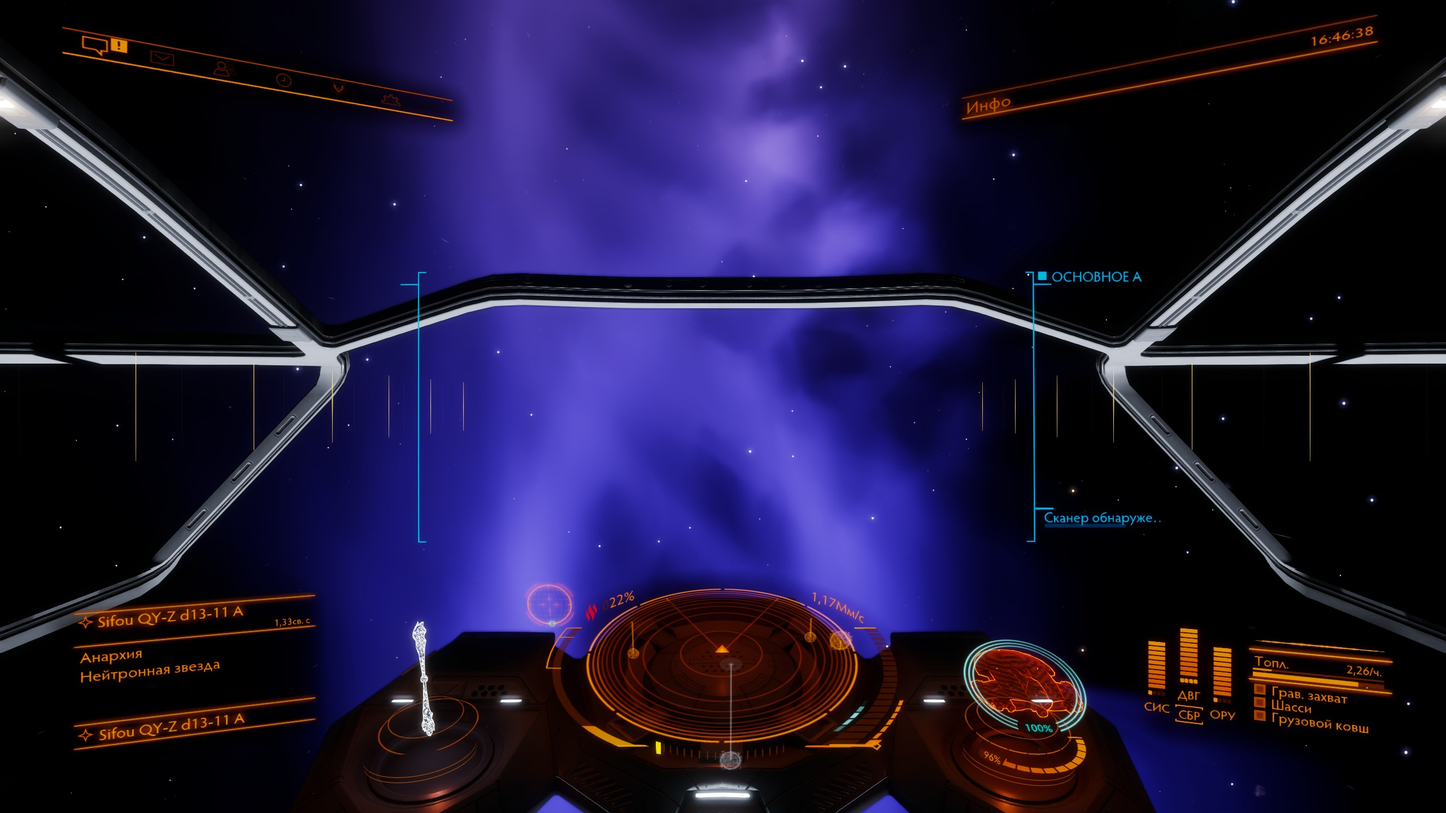jetcone: (350, 12, 1000, 617)
